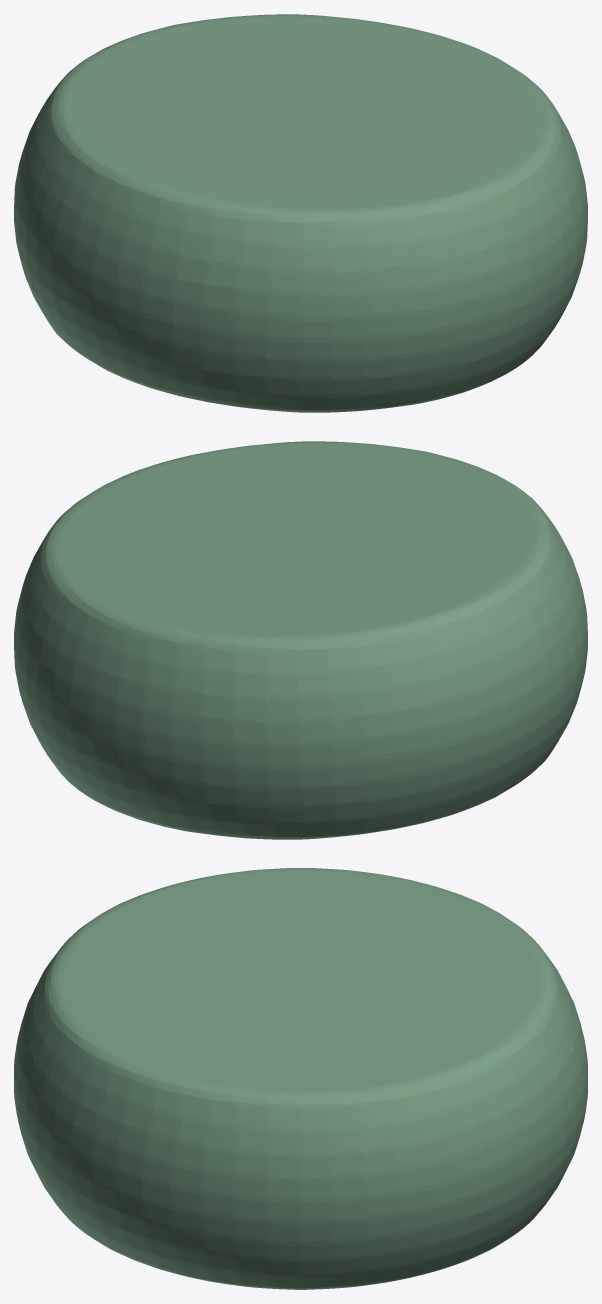
Rendered from B_wheel_l2.obj.
3 views of the same model, one above another, from view 1: azimuth 30°, elevation 25°; view 2: azimuth 150°, elevation 25°; view 3: azimuth 270°, elevation 25° (orthographic).
Parts seen in each view (by area): view 1: geometry_0; view 2: geometry_0; view 3: geometry_0.
Part boxes in pixels (x1,y1,x2,y2): geometry_0: [14, 14, 587, 412]; geometry_0: [14, 441, 587, 839]; geometry_0: [14, 868, 587, 1289].
Bounding box in the file's own units: 0.0807 × 0.0338 × 0.0806.
